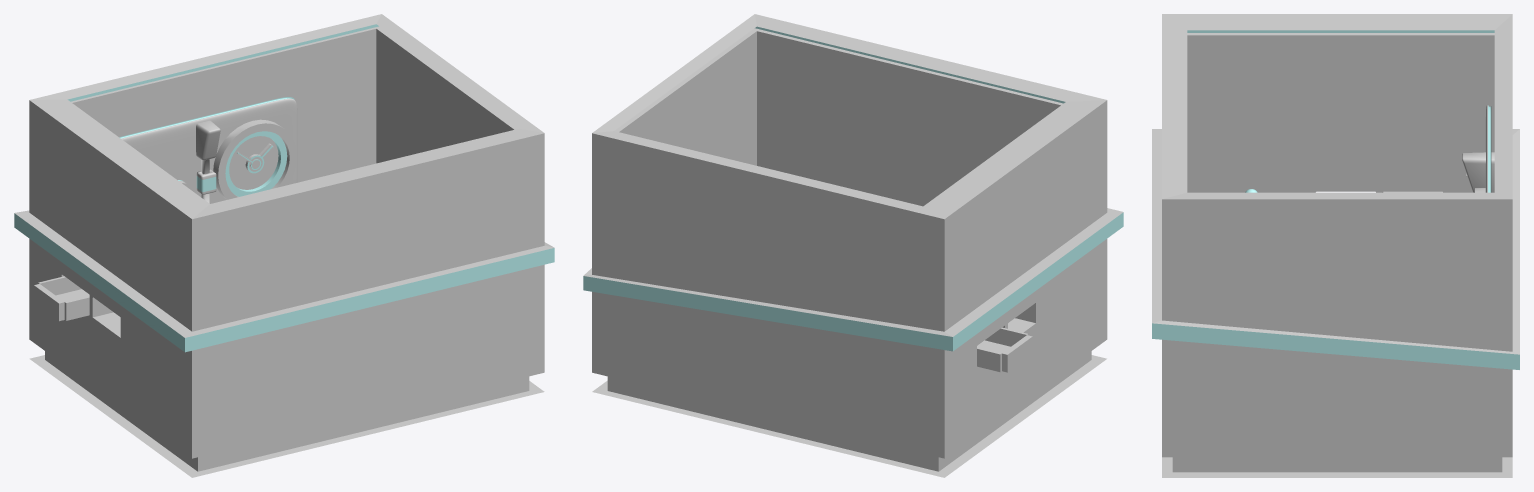
Rendered from TestRoom.fbx.
The picture shows the model from 3 angles, left to right: view 1: azimuth 30°, elevation 25°; view 2: azimuth 150°, elevation 25°; view 3: azimuth 270°, elevation 25°; orthographic projection. The views are drawn at different scales.
Visible parts, largest first — view 1: Room, Board, Clock, Drawer, stppoer; view 2: Room, Drawer; view 3: Room, stppoer, Board.
Boxes of the visible parts, box(x1,y1,x2,y2) form: Room: box(14, 14, 554, 477); Board: box(116, 92, 302, 203); Clock: box(213, 119, 296, 199); Drawer: box(34, 276, 89, 321); stppoer: box(196, 120, 220, 160); Room: box(583, 14, 1123, 477); Drawer: box(977, 327, 1032, 372); Room: box(1152, 14, 1519, 477); stppoer: box(1462, 152, 1494, 192); Board: box(1485, 105, 1491, 192).
Size of the model in its own units: 393 by 251 by 300.
